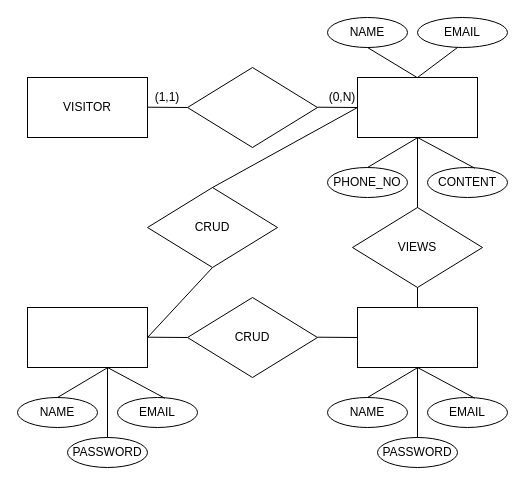
Some shapes in this 525 by 485 pixel diagram are drawn without their labels. Here are the shapes that lost their labels. From the top down, the box of each, then its label:
(186, 66, 318, 148): POST
(356, 76, 478, 138): ENTRIES
(26, 306, 148, 368): SUPER ADMIN
(356, 306, 478, 368): USERS
